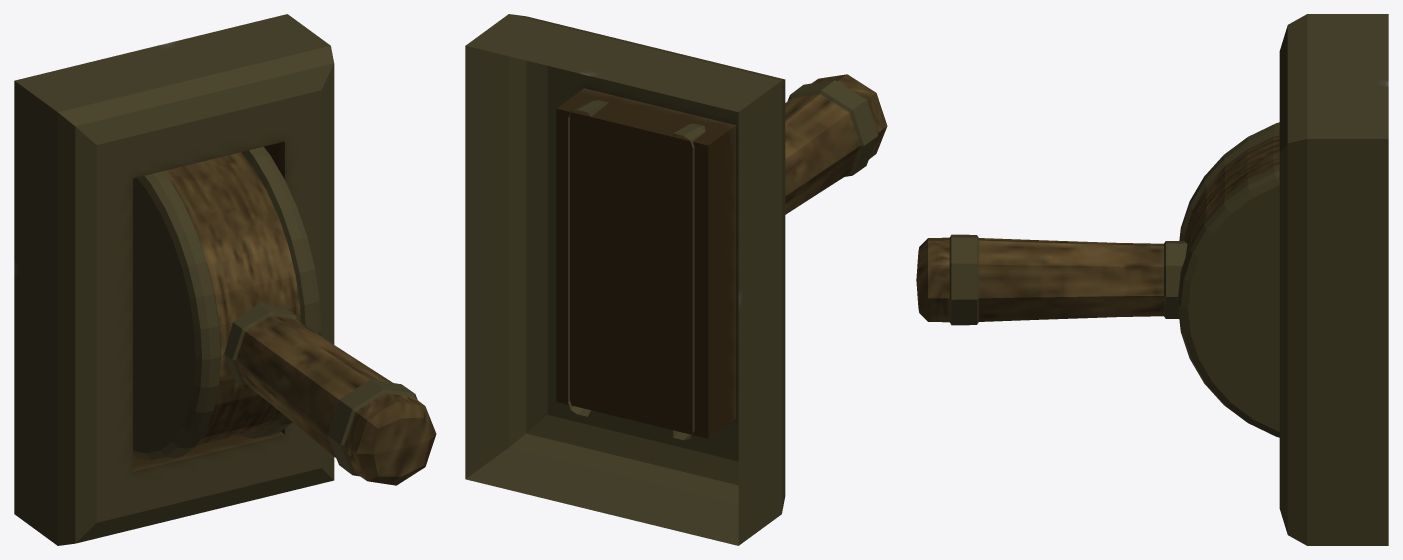
Rendered from Lever.fbx.
3 views of the same model, side by side, from view 1: azimuth 30°, elevation 25°; view 2: azimuth 150°, elevation 25°; view 3: azimuth 270°, elevation 25° (orthographic). The views are drawn at different scales.
Parts seen in each view (by area): view 1: Lever_Base, Lever; view 2: Lever_Base, Lever; view 3: Lever_Base, Lever.
Part boxes in pixels (x1=…): Lever_Base: x1=14, y1=14, x2=334, y2=545; Lever: x1=224, y1=304, x2=436, y2=485; Lever_Base: x1=465, y1=14, x2=785, y2=545; Lever: x1=785, y1=74, x2=887, y2=214; Lever_Base: x1=1177, y1=14, x2=1388, y2=545; Lever: x1=916, y1=234, x2=1187, y2=325.
Bounding box in the file's own units: 24.28 × 36.84 × 38.74.
Materials: 1 (1 with a texture image).
